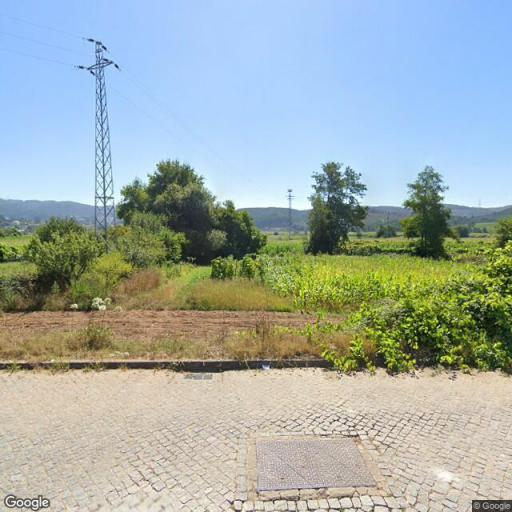ss_1: (74, 34, 126, 236), (285, 186, 295, 242)
